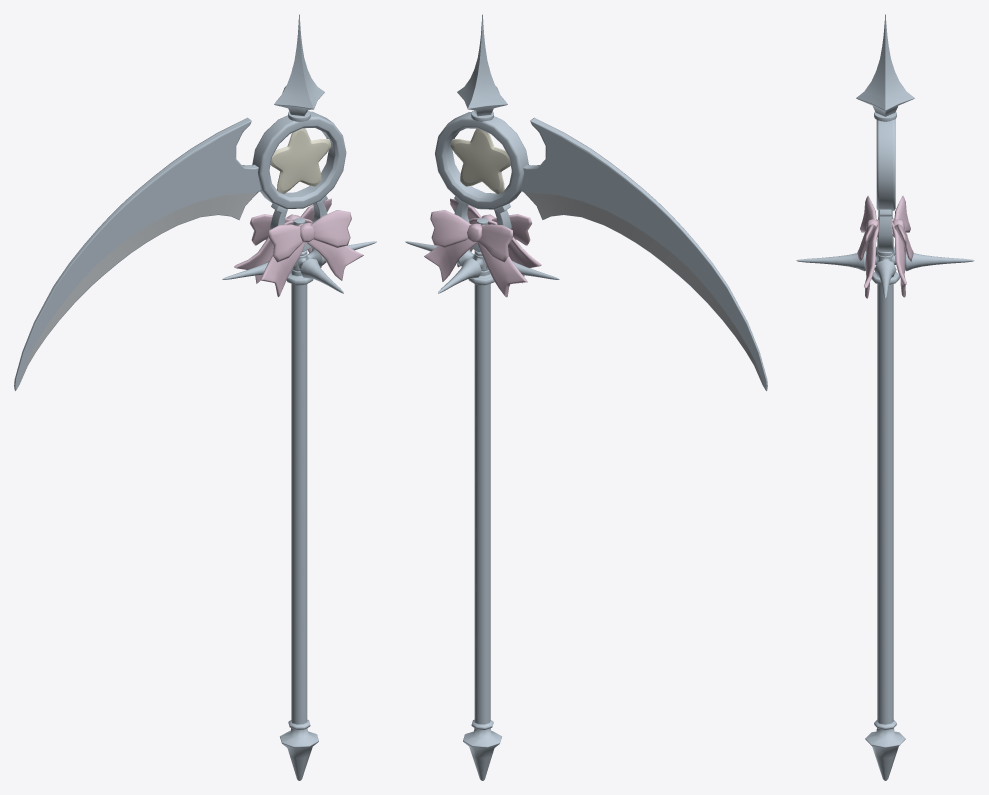
The model's file is Scythe.fbx.
3 renders of one model, left to right at view 1: azimuth 30°, elevation 25°; view 2: azimuth 150°, elevation 25°; view 3: azimuth 270°, elevation 25°, orthographic.
Parts seen in each view (by area): view 1: scythe; view 2: scythe; view 3: scythe.
Part boxes in pixels (x1=…): scythe: x1=14, y1=14, x2=376, y2=780; scythe: x1=405, y1=14, x2=767, y2=780; scythe: x1=796, y1=14, x2=974, y2=780.
Size of the model in its own units: 5.01 by 10.13 by 2.14.
